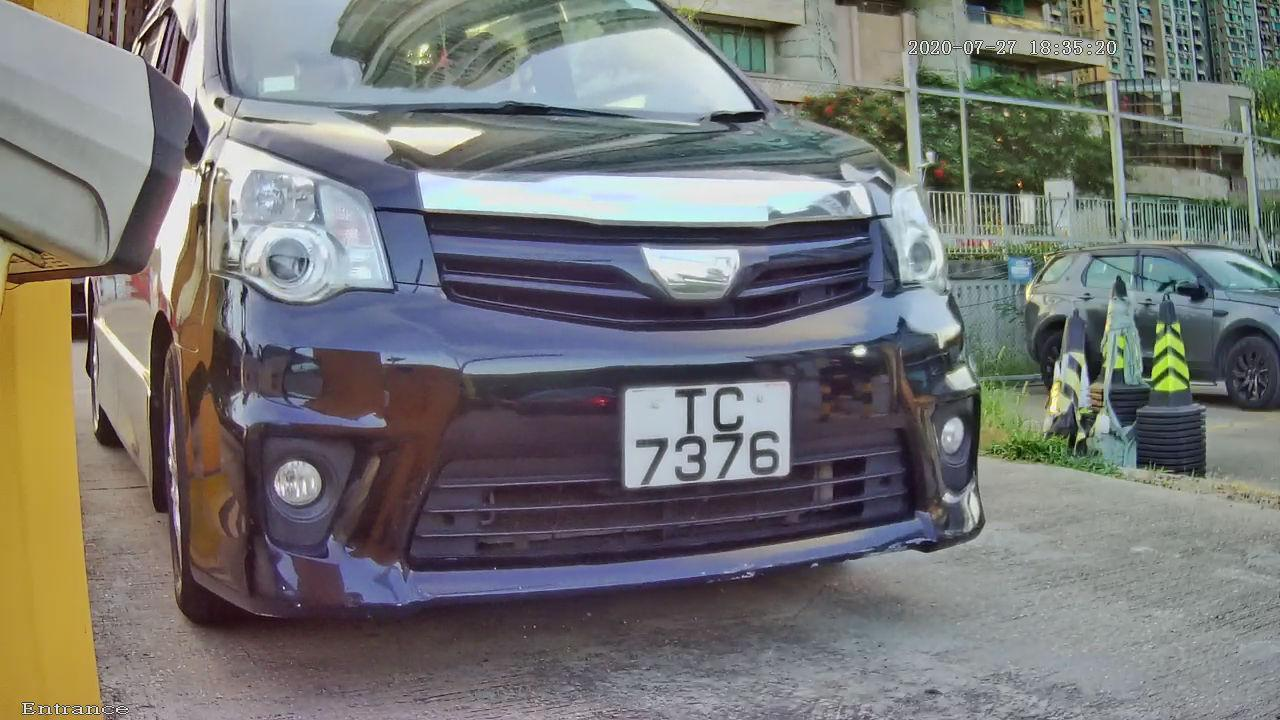privatecar: (52, 17, 1103, 647)
